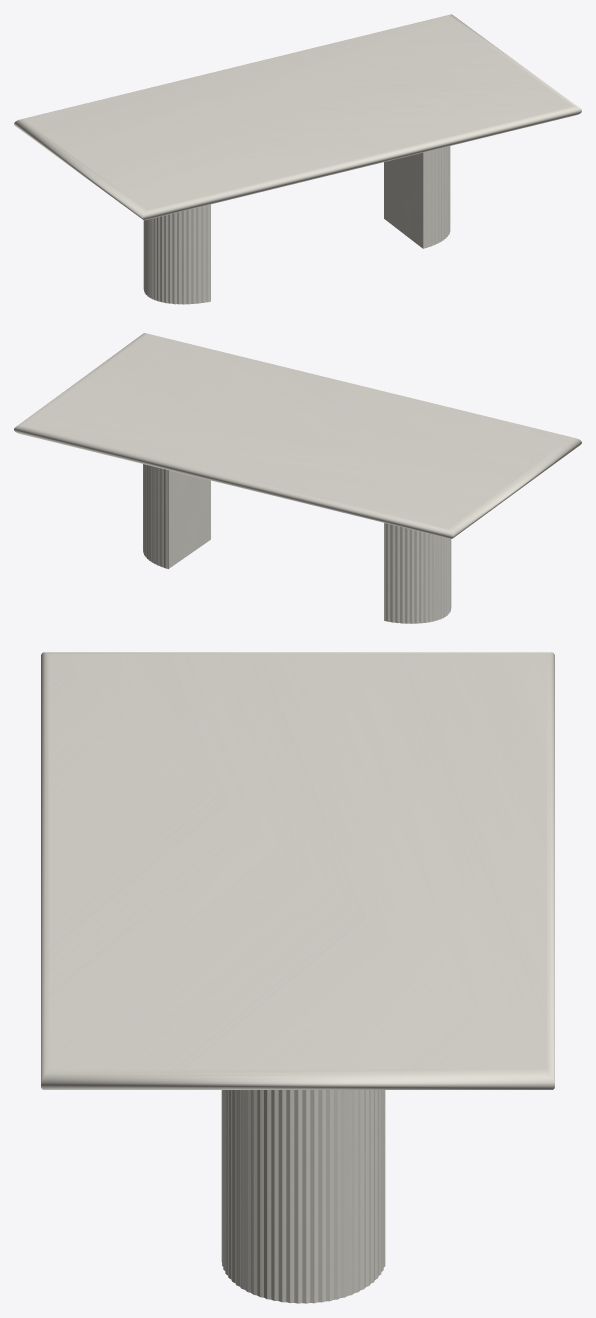
Rendered from pale_recta_round_flute.glb.
The picture shows the model from 3 angles, top to bottom: view 1: azimuth 30°, elevation 25°; view 2: azimuth 150°, elevation 25°; view 3: azimuth 270°, elevation 25°; orthographic projection. The views are drawn at different scales.
Visible parts, largest first — view 1: round_recta, flute; view 2: round_recta, flute; view 3: round_recta, flute.
Boxes of the visible parts, <box> form: round_recta: <box>14,14,581,220</box>; flute: <box>143,146,450,304</box>; round_recta: <box>14,333,581,538</box>; flute: <box>143,464,451,623</box>; round_recta: <box>41,652,554,1089</box>; flute: <box>221,1090,385,1303</box>.
Bounding box in the file's own units: 7.76 × 2.5 × 3.93.
Materials: 1 (1 with a texture image).
